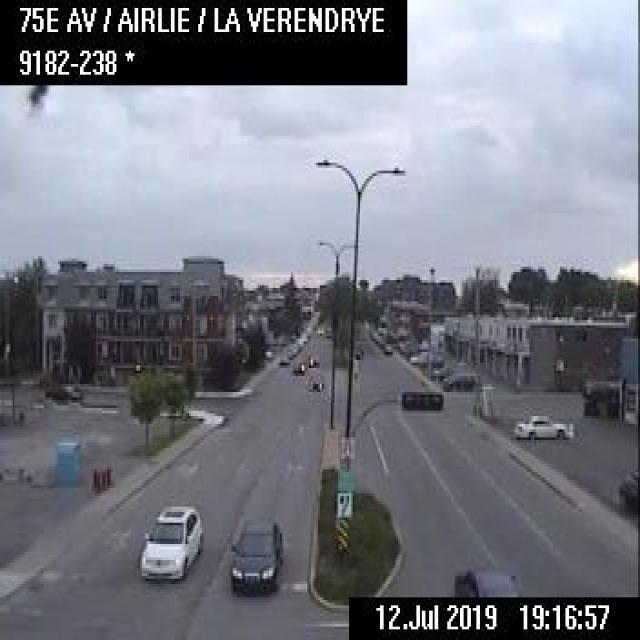construction: (105, 464, 111, 485), (100, 468, 106, 488), (95, 468, 100, 490), (90, 466, 95, 486)
vehicle: (134, 499, 202, 581), (228, 507, 286, 592), (451, 565, 524, 595), (510, 410, 575, 441), (42, 379, 82, 400), (441, 369, 476, 389), (289, 358, 305, 376), (305, 351, 321, 368), (307, 374, 322, 392), (275, 352, 289, 364), (382, 342, 392, 353)
